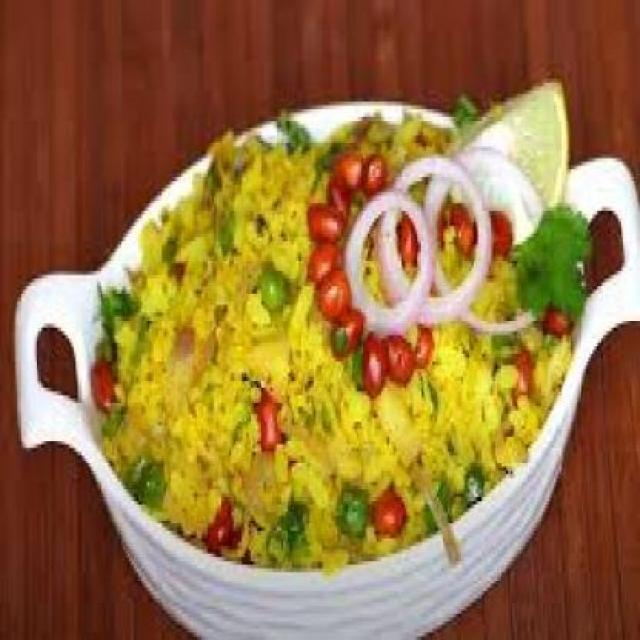poha: (91, 80, 574, 571)
